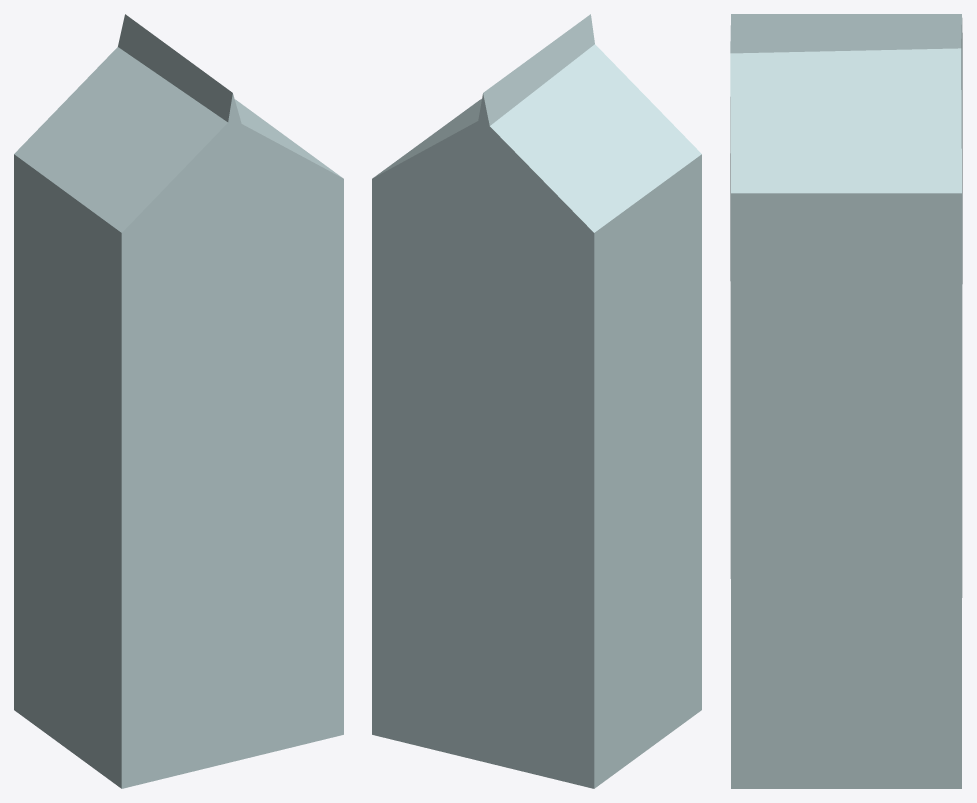
The model's file is milk.fbx.
The picture shows the model from 3 angles, left to right: view 1: azimuth 30°, elevation 25°; view 2: azimuth 150°, elevation 25°; view 3: azimuth 270°, elevation 25°; orthographic projection. The views are drawn at different scales.
Parts seen in each view (by area): view 1: milk; view 2: milk; view 3: milk.
Part boxes in pixels (left/top/right/bottom): milk: left=14, top=14, right=343, bottom=788; milk: left=372, top=14, right=701, bottom=788; milk: left=730, top=14, right=962, bottom=788.
Bounding box in the file's own units: 14.21 × 40.87 × 12.01.
